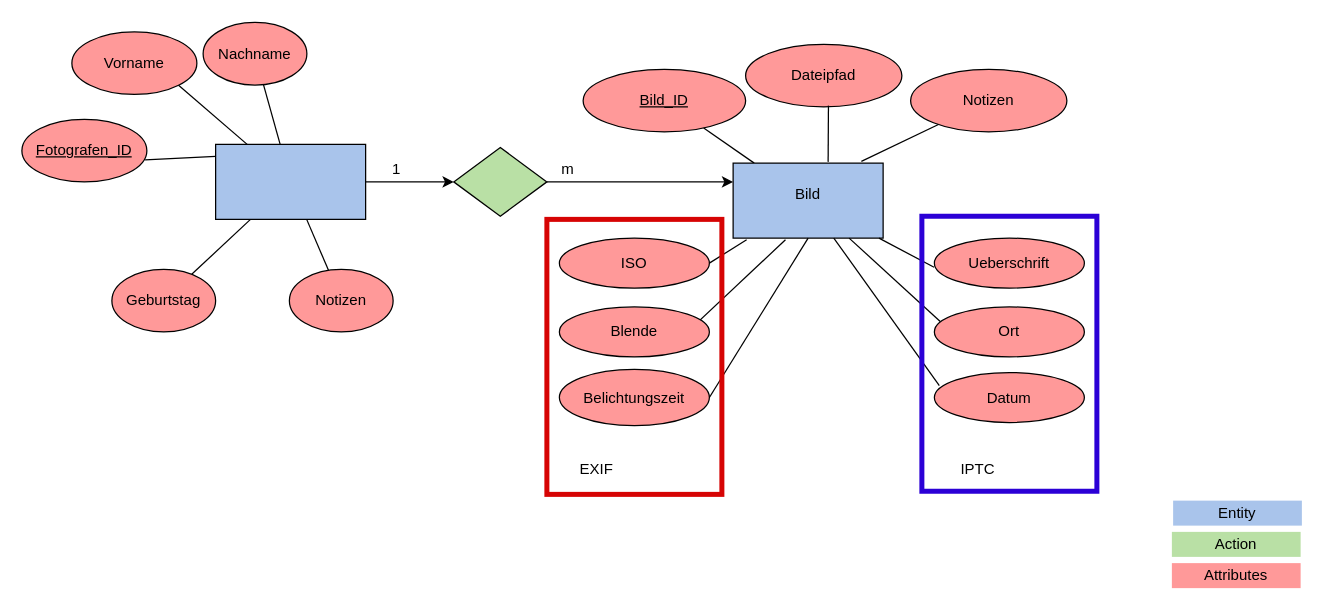
This 1324x609 diagram has some shape labels left out. Each missing label, with the centre of its shape:
"Fotografen_innen" belongs at point (290, 181).
"machen" belongs at point (499, 181).
